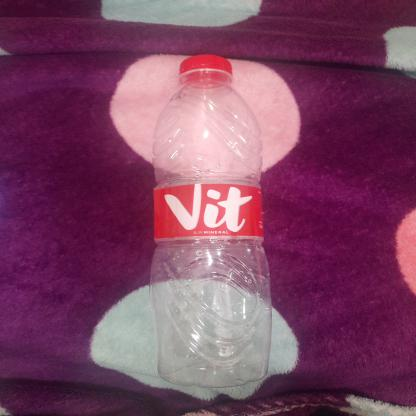bottle: (146, 54, 278, 388)
